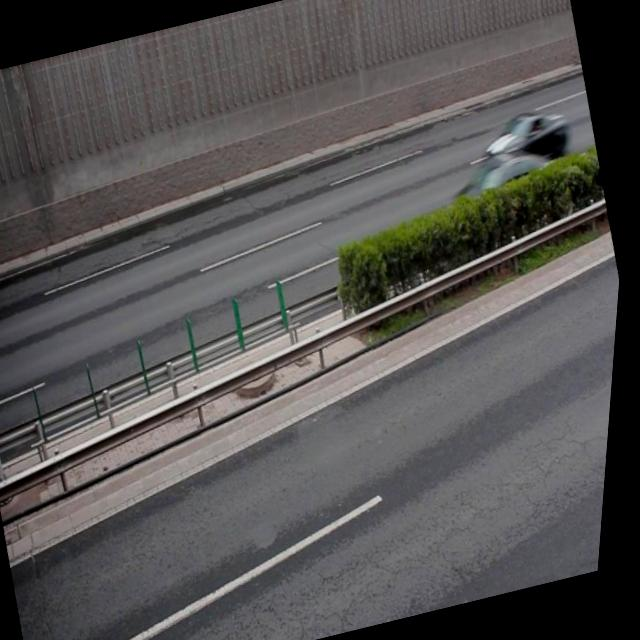car: (441, 142, 569, 244), (473, 100, 575, 177)
